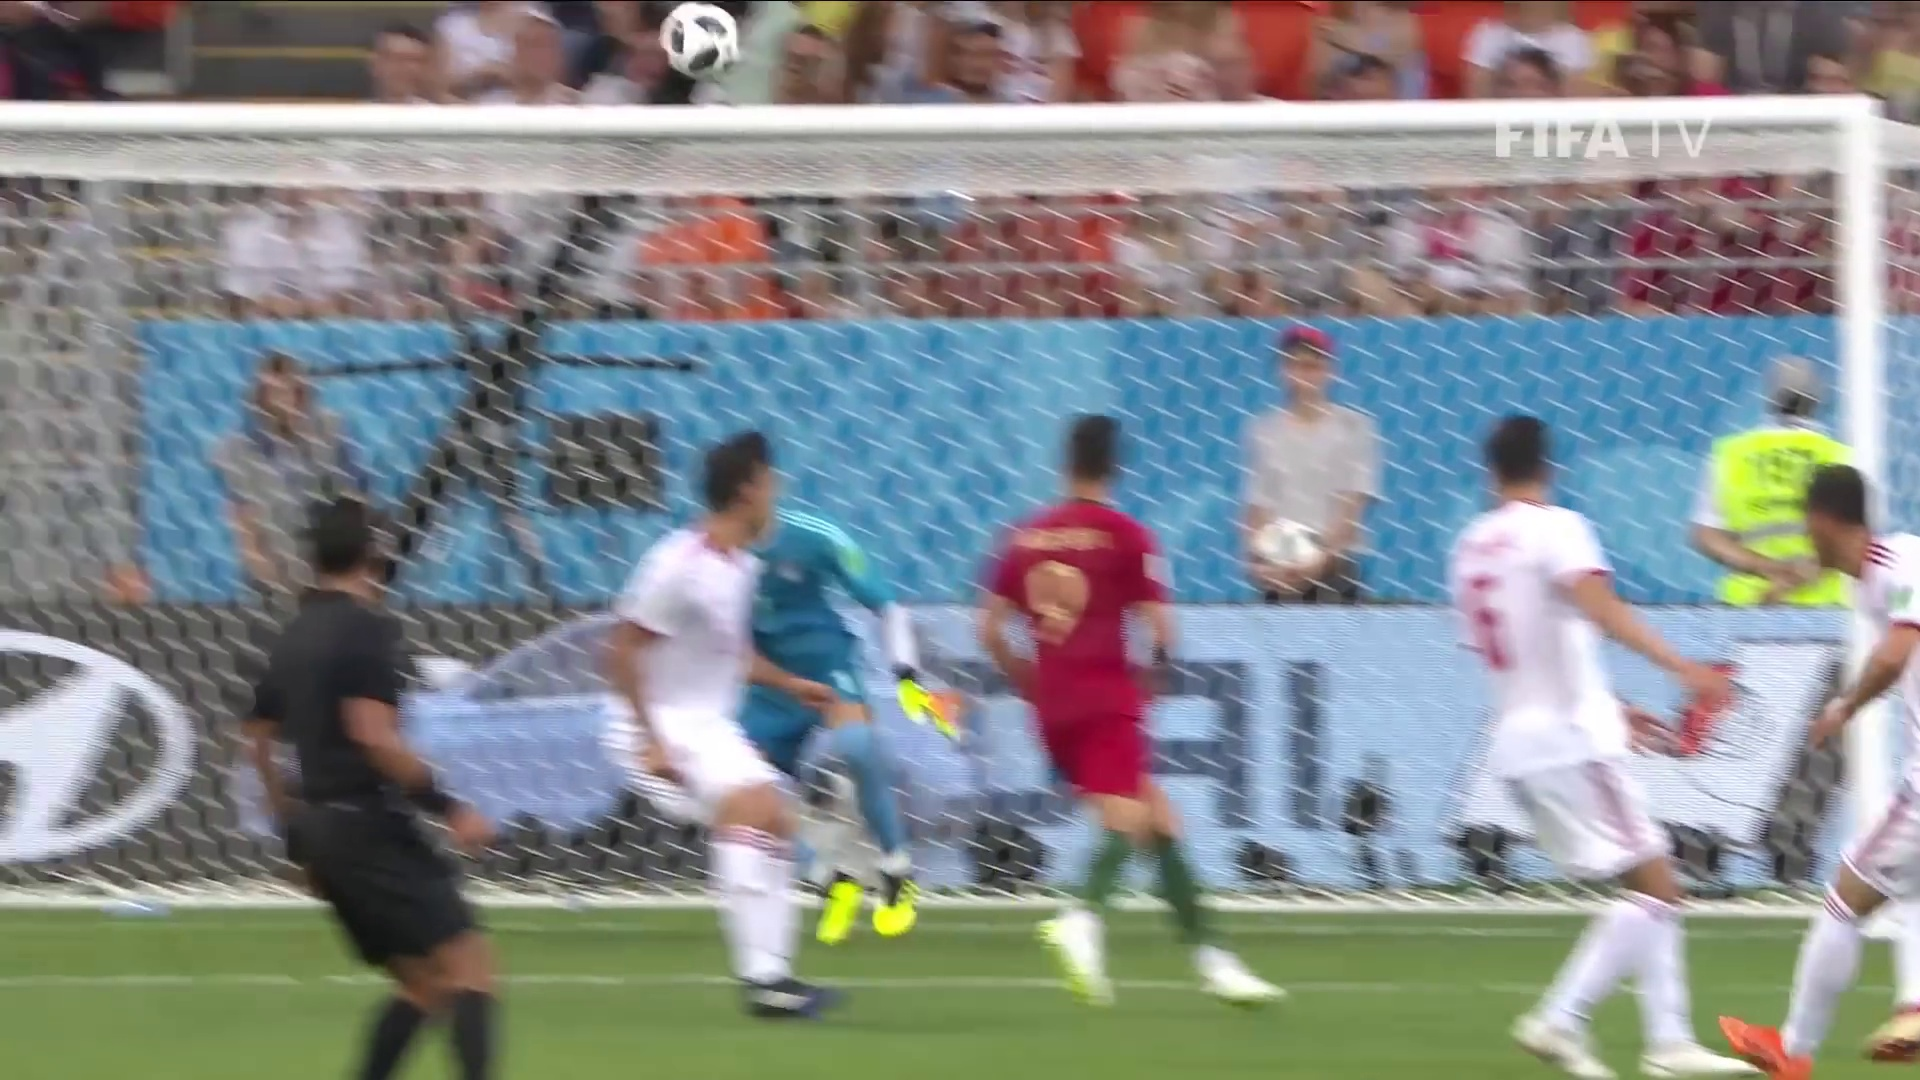ball: (603, 432, 836, 1013), (661, 1, 738, 76)
person: (1446, 415, 1757, 1080), (990, 413, 1280, 1001), (1773, 455, 1920, 1063)
